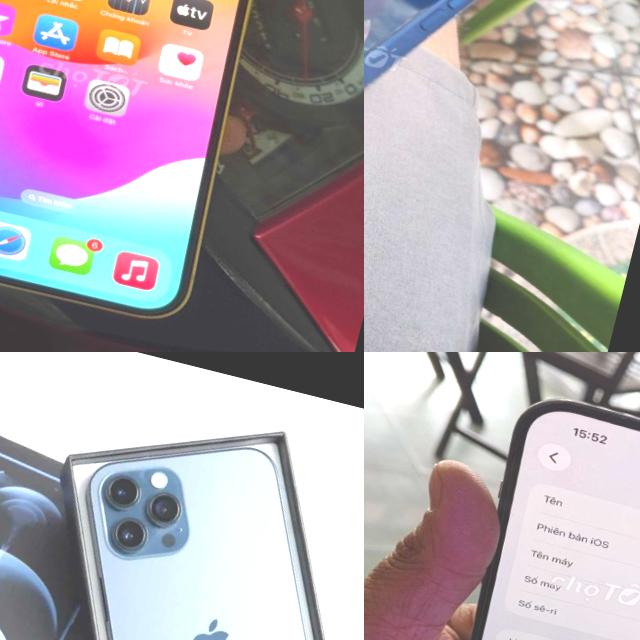gen_12_13: (2, 413, 364, 640), (364, 0, 524, 274)
gen_14: (0, 0, 300, 334), (416, 384, 640, 640)
